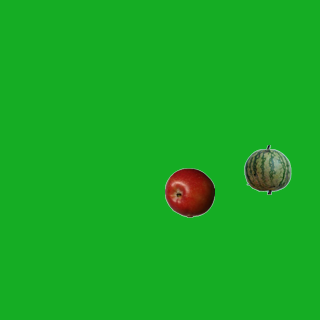Apple Braeburn: (164, 167, 214, 217)
Watermelon: (242, 144, 292, 194)
